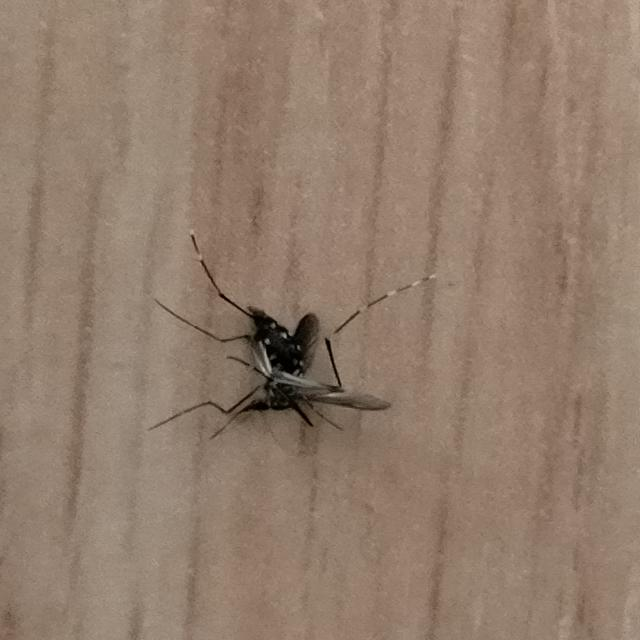albopictus: (132, 224, 418, 448)
